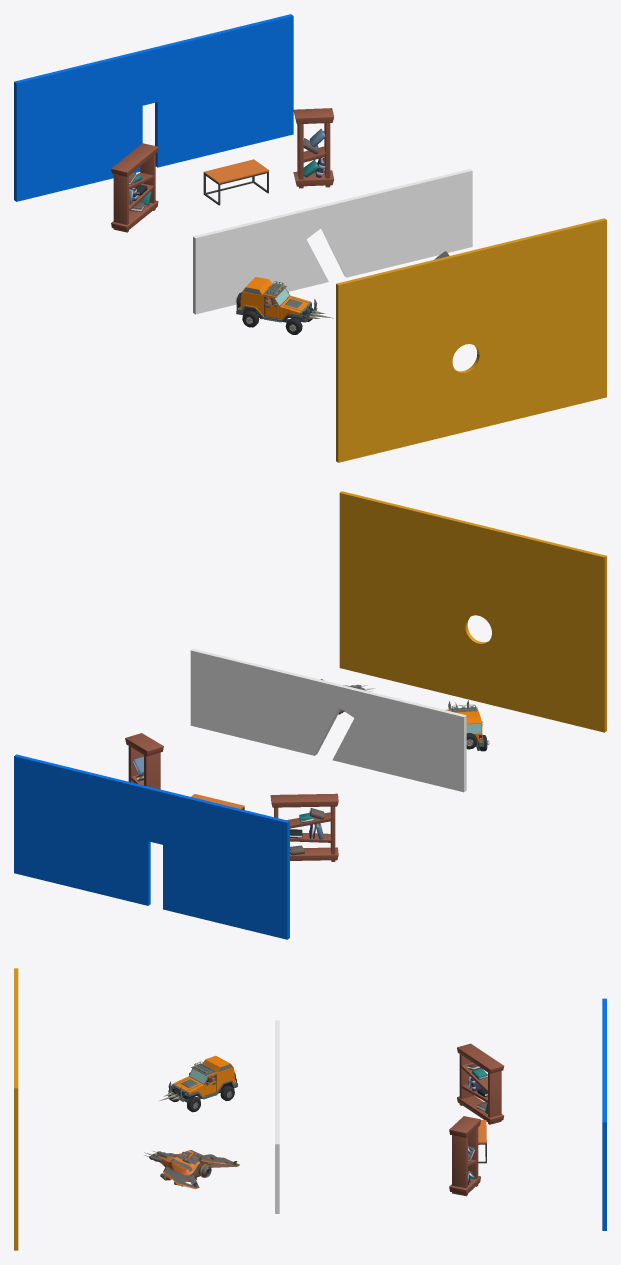
File: puzzle.glb
3 views of the same model, one above another, from view 1: azimuth 30°, elevation 25°; view 2: azimuth 150°, elevation 25°; view 3: azimuth 270°, elevation 25° (orthographic). The views are drawn at different scales.
Visible parts, largest first — view 1: Cube.005, Cube.004, Cube, bookcaseWideFilled_broken, car, bookcaseFilled_broken, Desk; view 2: Cube.005, Cube.004, Cube, bookcaseWideFilled_broken, bookcaseFilled_broken, car; view 3: bookcaseWideFilled_broken, car, bookcaseFilled_broken, Cube.003, Cube.005, Cube.004, Cube.
Part boxes in pixels (x1=…): Cube.005: x1=336, y1=218, x2=606, y2=462; Cube.004: x1=14, y1=14, x2=293, y2=201; Cube: x1=193, y1=169, x2=472, y2=314; bookcaseWideFilled_broken: x1=111, y1=143, x2=158, y2=232; car: x1=236, y1=277, x2=333, y2=334; bookcaseFilled_broken: x1=293, y1=108, x2=334, y2=188; Desk: x1=203, y1=159, x2=268, y2=205; Cube.005: x1=339, y1=491, x2=606, y2=732; Cube.004: x1=14, y1=754, x2=289, y2=939; Cube: x1=190, y1=648, x2=466, y2=792; bookcaseWideFilled_broken: x1=270, y1=793, x2=338, y2=861; bookcaseFilled_broken: x1=125, y1=733, x2=163, y2=789; car: x1=446, y1=700, x2=489, y2=751; bookcaseWideFilled_broken: x1=457, y1=1043, x2=504, y2=1124; car: x1=158, y1=1055, x2=237, y2=1112; bookcaseFilled_broken: x1=449, y1=1116, x2=480, y2=1196; Cube.003: x1=144, y1=1150, x2=239, y2=1188; Cube.005: x1=14, y1=968, x2=18, y2=1250; Cube.004: x1=602, y1=998, x2=606, y2=1230; Cube: x1=275, y1=1020, x2=279, y2=1213.
Bounding box in the file's own units: 6.16 × 3.77 × 12.49.
Materials: 29 (1 with a texture image).
